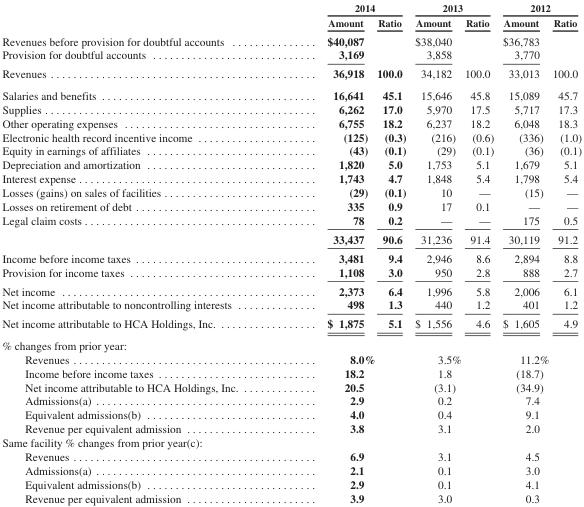table: (1, 1, 581, 504)
table column: (1, 1, 282, 504), (282, 1, 375, 504), (409, 1, 462, 504), (497, 1, 550, 504), (462, 1, 497, 504), (375, 1, 409, 504), (550, 1, 581, 504)
table column header: (1, 1, 581, 30)
table projected row header: (1, 334, 581, 351), (1, 435, 581, 449)
table row: (1, 63, 581, 84), (1, 313, 581, 334), (1, 229, 581, 248), (1, 30, 581, 47), (1, 84, 581, 101), (1, 212, 581, 229), (1, 264, 581, 281), (1, 334, 581, 351), (1, 14, 581, 30), (1, 47, 581, 63), (1, 248, 581, 264), (1, 281, 581, 297), (1, 297, 581, 313), (1, 101, 581, 115), (1, 115, 581, 129), (1, 129, 581, 143), (1, 143, 581, 157), (1, 157, 581, 171), (1, 171, 581, 185), (1, 185, 581, 199), (1, 351, 581, 365), (1, 365, 581, 379), (1, 379, 581, 393), (1, 393, 581, 407), (1, 407, 581, 421), (1, 421, 581, 435), (1, 435, 581, 449), (1, 462, 581, 476), (1, 476, 581, 490), (1, 490, 581, 504), (1, 1, 581, 14), (1, 199, 581, 212), (1, 449, 581, 462)
table spanning cell: (282, 1, 409, 14), (409, 1, 497, 14), (497, 1, 581, 14)
